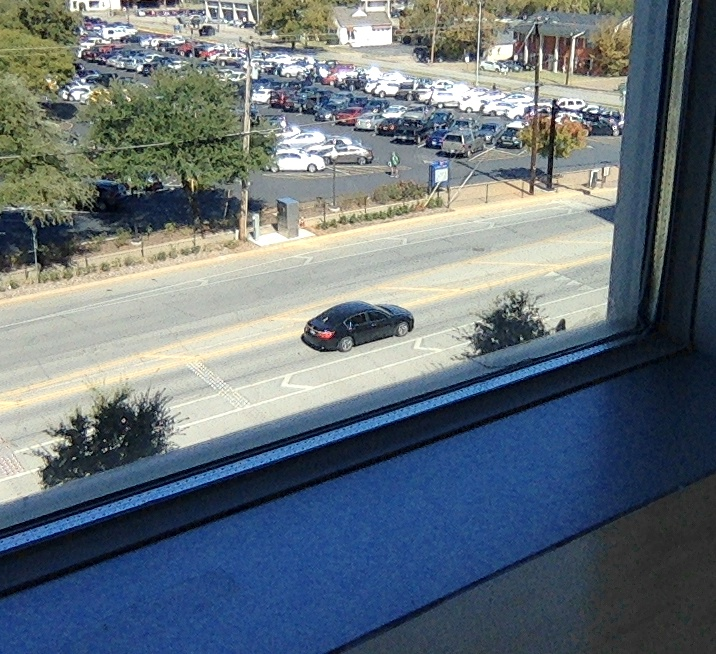car: (300, 300, 416, 354)
